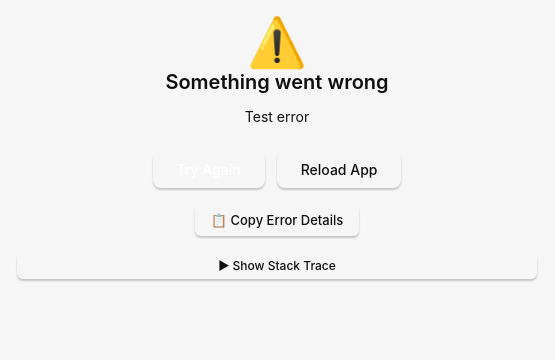
Test case: ErrorBoundary Edge Cases › shows stack trace when toggle is clicked
Click the button with test id "error-stack-toggle" at (277,266), box [17,252,537,279]
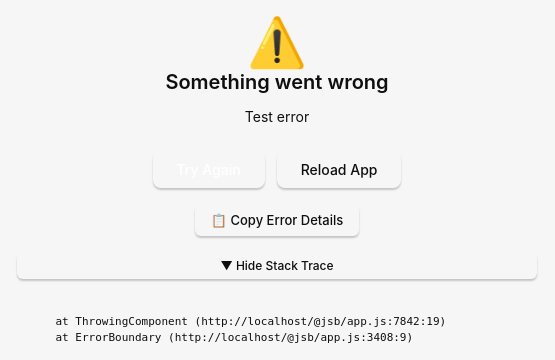
Result: the text with test id "error-stack-trace" is shown at [29,315,446,344]
